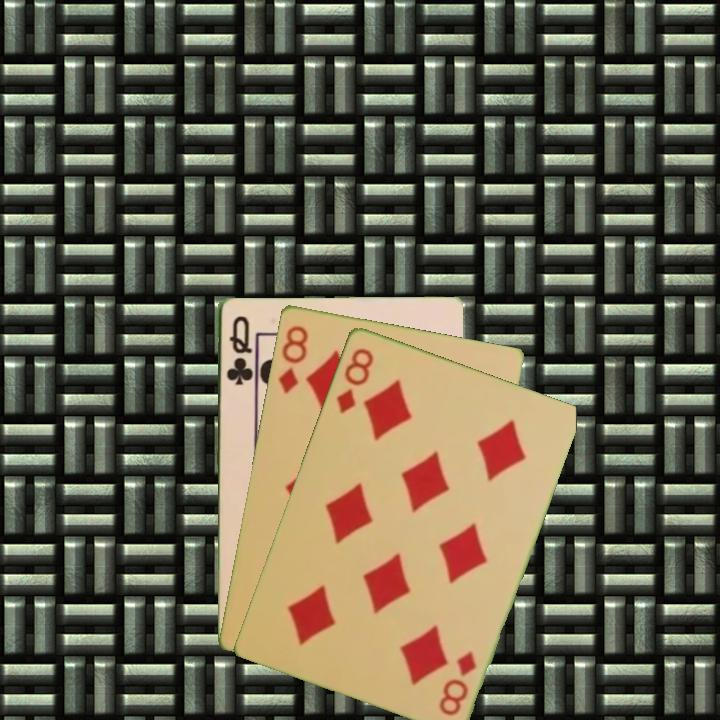8d: (332, 343, 376, 416), (435, 646, 479, 718), (274, 321, 311, 396)
Qc: (223, 312, 254, 388)
